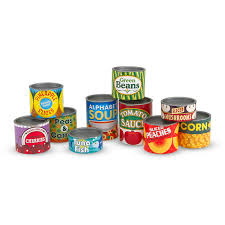can: (12, 64, 215, 160)
